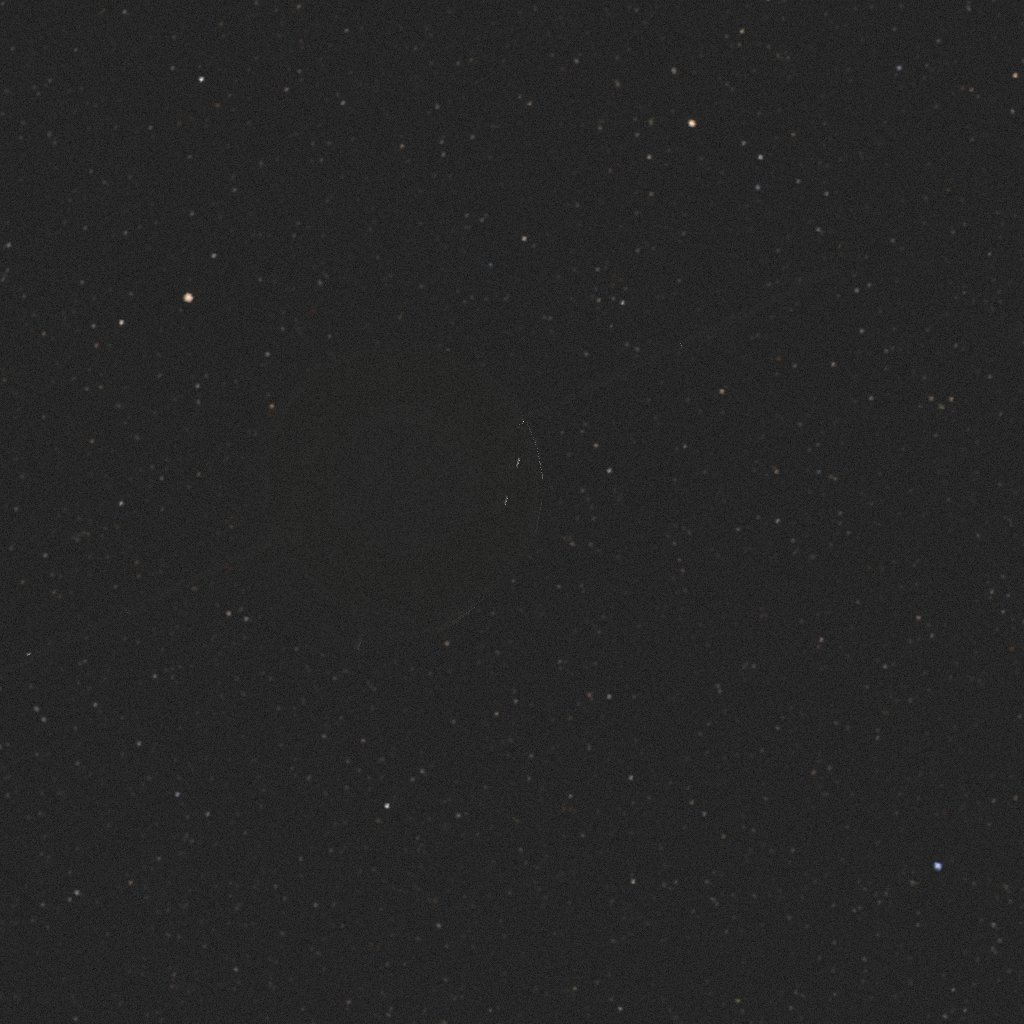double_star: (0, 265, 836, 676)
